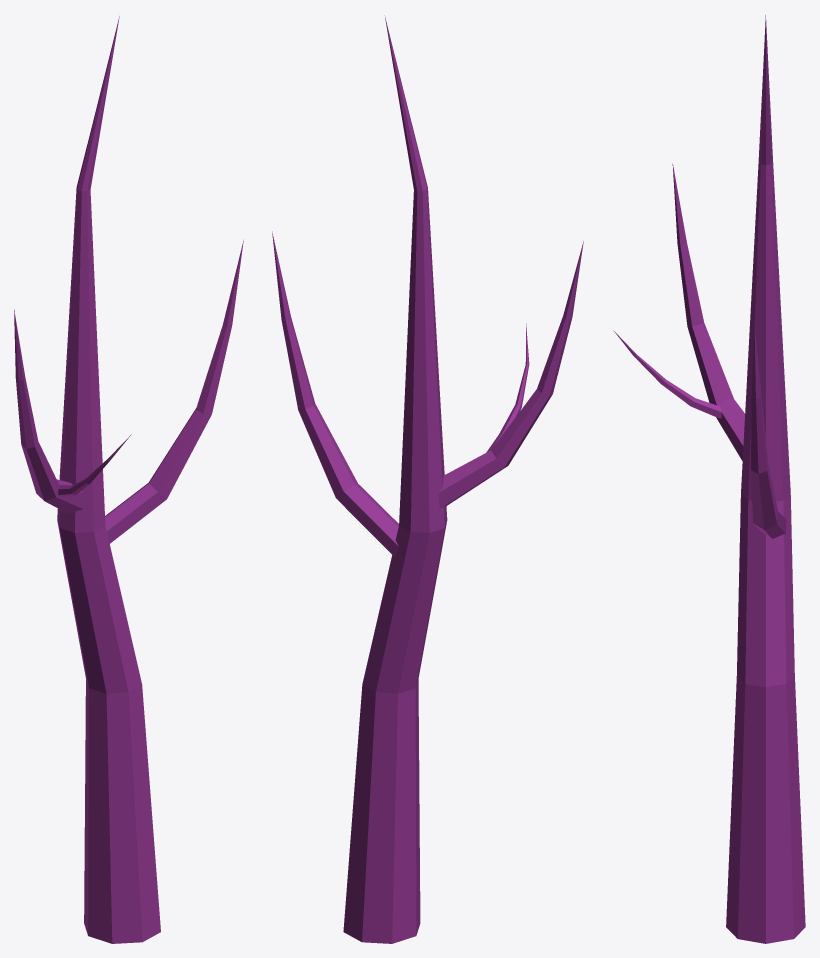
File: Tree_Type_A_1.fbx
3 views of the same model, side by side, from view 1: azimuth 30°, elevation 25°; view 2: azimuth 150°, elevation 25°; view 3: azimuth 270°, elevation 25° (orthographic).
Parts seen in each view (by area): view 1: Tree_Type_A_1; view 2: Tree_Type_A_1; view 3: Tree_Type_A_1.
Part boxes in pixels (box(x1,y1,x2,y2)): Tree_Type_A_1: box(14, 16, 243, 943); Tree_Type_A_1: box(272, 15, 583, 943); Tree_Type_A_1: box(613, 15, 805, 943).
Size of the model in its own units: 184 by 592 by 114.
